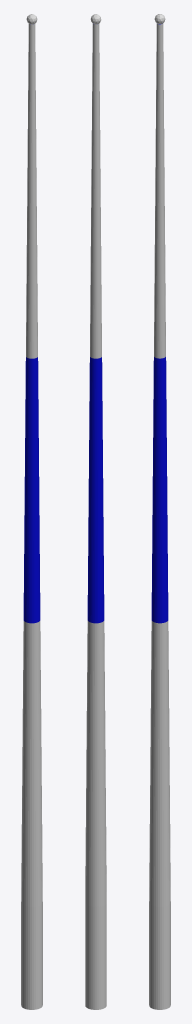
The model's file is fin_flag.gltf.
3 views of the same model, side by side, from view 1: azimuth 90°, elevation 25°; view 2: azimuth 150°, elevation 25°; view 3: azimuth 270°, elevation 25° (orthographic).
Parts seen in each view (by area): view 1: node2, node1; view 2: node2, node1; view 3: node2, node1.
Part boxes in pixels (x1,y1,x2,y2): node2: (21, 14, 42, 1009); node1: (23, 357, 40, 623); node2: (85, 14, 106, 1009); node1: (87, 357, 104, 623); node2: (149, 14, 170, 1009); node1: (151, 24, 168, 623).
Size of the model in its own units: 2 by 101 by 2.
